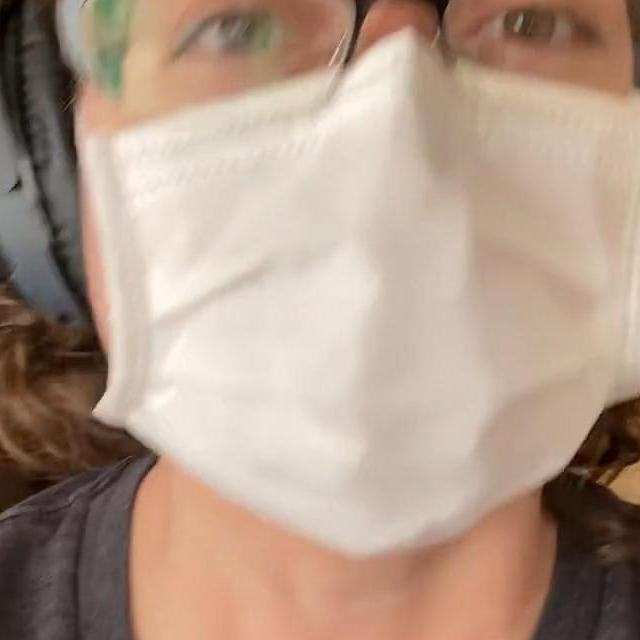Mask: (77, 73, 640, 547)
NO-Safety Vest: (0, 503, 640, 640)
Person: (0, 0, 640, 640)
